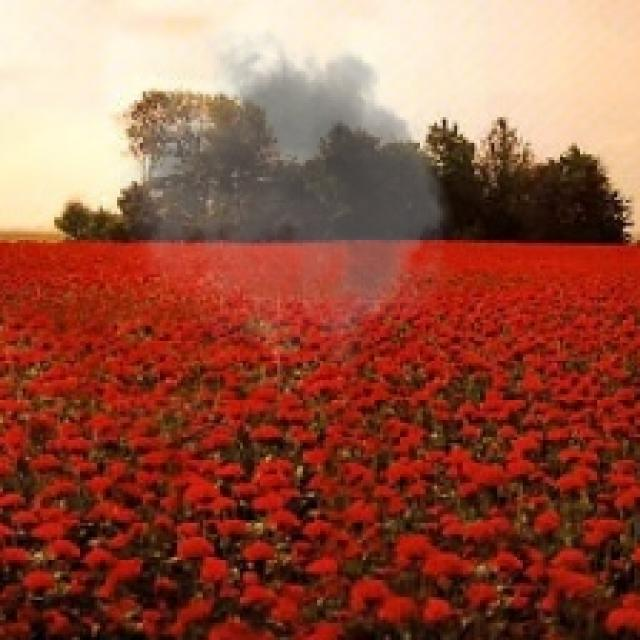smoke: (114, 9, 466, 374)
